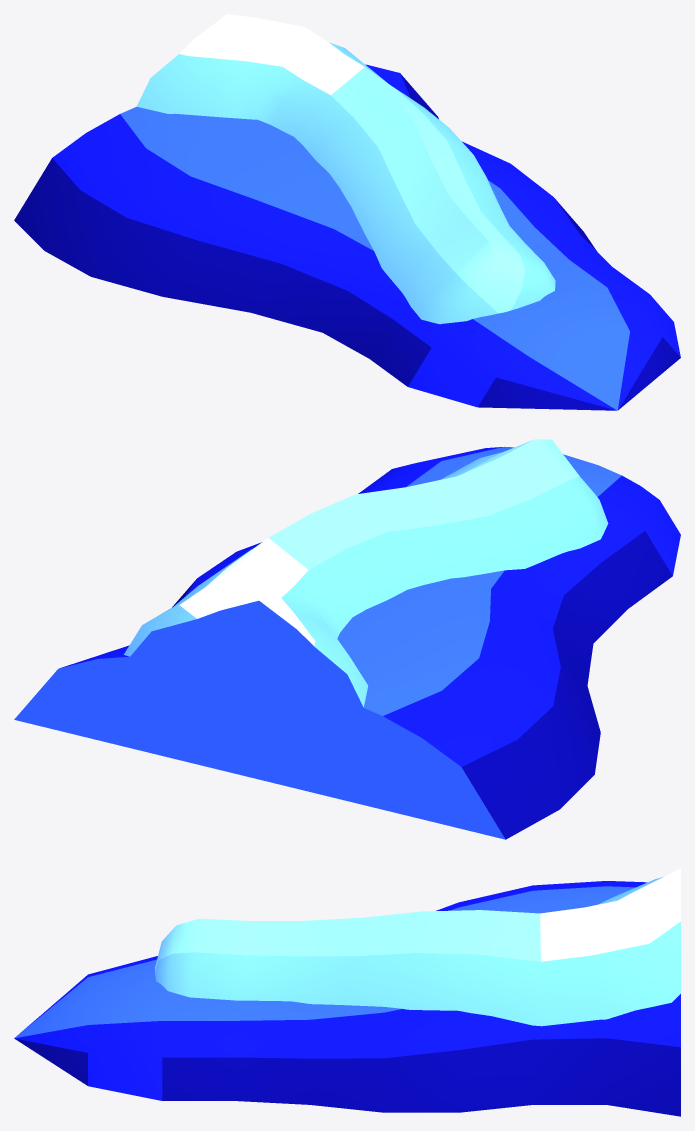
Rendered from shot_lightning_268.glb.
3 views of the same model, one above another, from view 1: azimuth 30°, elevation 25°; view 2: azimuth 150°, elevation 25°; view 3: azimuth 270°, elevation 25° (orthographic). The views are drawn at different scales.
Parts seen in each view (by area): view 1: shot_lightning_268_0, shot_lightning_268_1; view 2: shot_lightning_268_0, shot_lightning_268_1; view 3: shot_lightning_268_0, shot_lightning_268_1.
Boxes of the visible parts, x1,y1,x2,y2 form: shot_lightning_268_0: (14,64,680,410); shot_lightning_268_1: (136,14,555,324); shot_lightning_268_0: (14,446,680,839); shot_lightning_268_1: (124,439,608,716); shot_lightning_268_0: (14,881,680,1116); shot_lightning_268_1: (155,868,680,1026).
Size of the model in its own units: 6.5 by 2.22 by 9.
